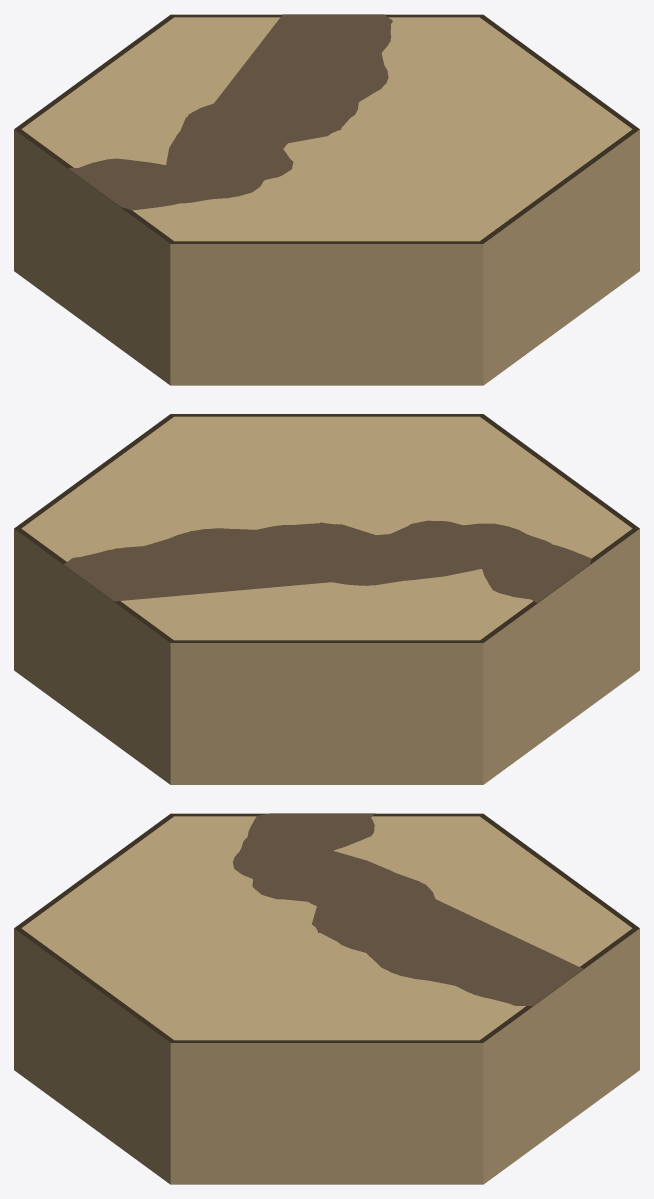
The model's file is WassergrabenRebell.fbx.
3 views of the same model, one above another, from view 1: azimuth 30°, elevation 25°; view 2: azimuth 150°, elevation 25°; view 3: azimuth 270°, elevation 25° (orthographic).
Visible parts, largest first — view 1: Cylinder, Circle; view 2: Cylinder, Circle; view 3: Cylinder, Circle.
Boxes of the visible parts, x1=… form: Cylinder: x1=14, y1=14, x2=639, y2=385; Circle: x1=68, y1=14, x2=392, y2=210; Cylinder: x1=14, y1=414, x2=639, y2=784; Circle: x1=63, y1=520, x2=591, y2=602; Cylinder: x1=14, y1=813, x2=639, y2=1184; Circle: x1=232, y1=813, x2=583, y2=1006.
Bounding box in the file's own units: 173 × 50.16 × 200.
